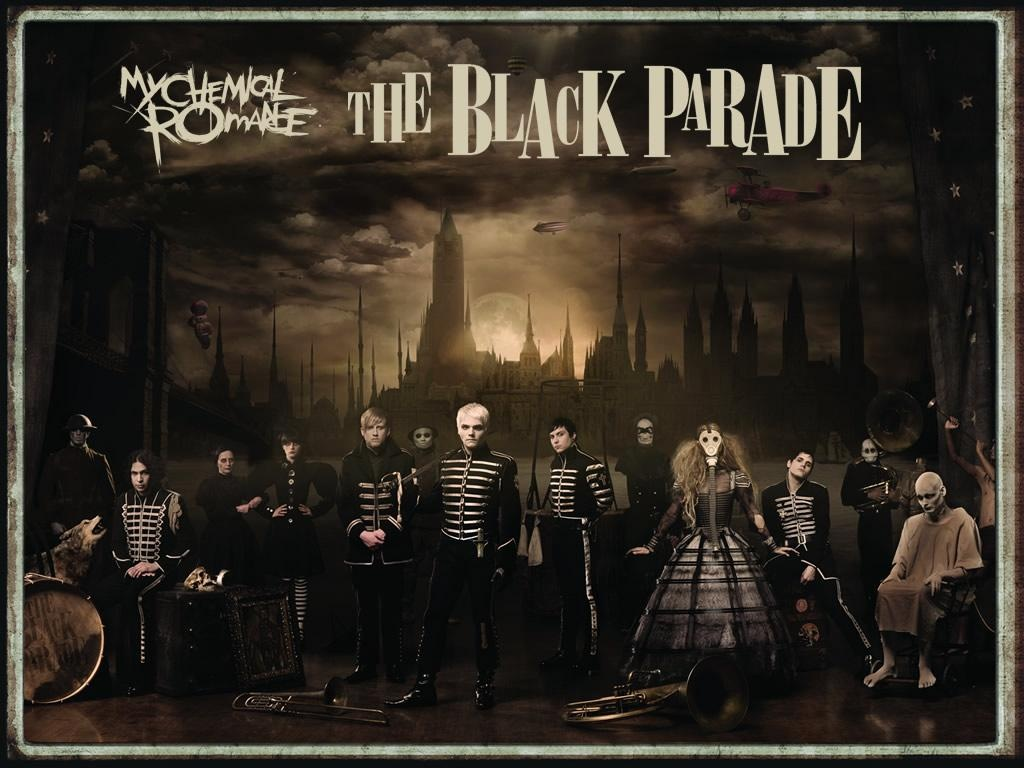human_face: (914, 481, 940, 513), (458, 416, 484, 446), (362, 416, 386, 446), (128, 463, 150, 491), (698, 430, 722, 455), (548, 428, 570, 452), (790, 452, 812, 476), (413, 425, 433, 449), (860, 441, 878, 463), (636, 420, 652, 444), (988, 439, 1006, 459), (282, 440, 300, 458), (218, 453, 234, 473), (70, 424, 86, 443)
